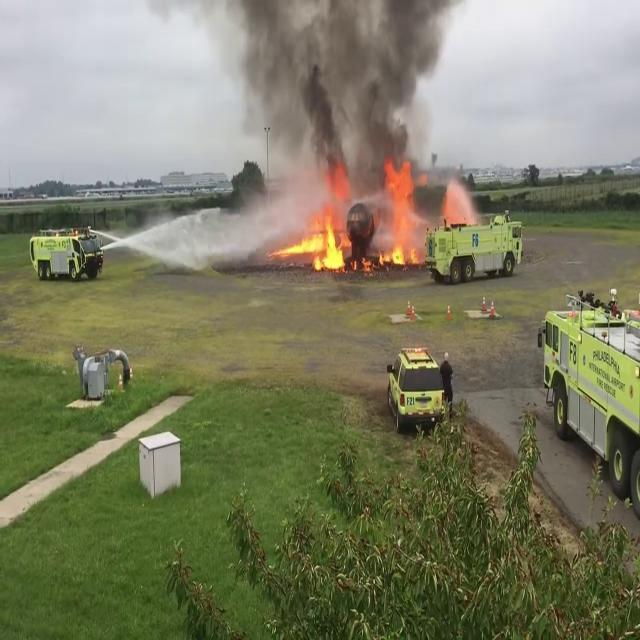Fire: (275, 206, 351, 273), (378, 157, 422, 267)
Smoke: (218, 0, 462, 182)
